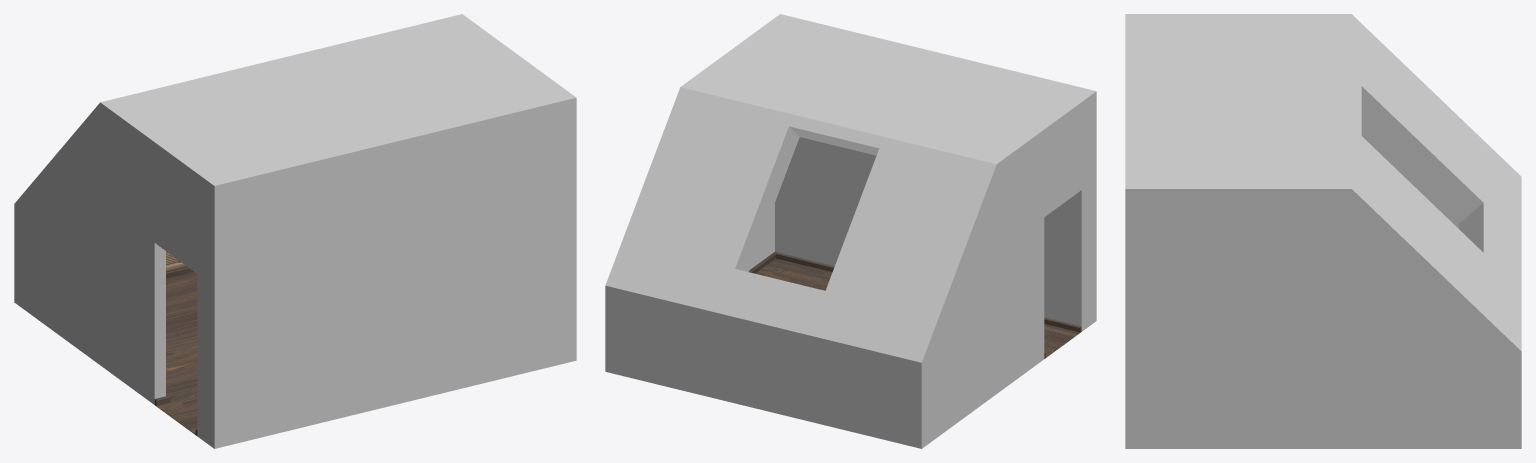
The picture shows the model from 3 angles, left to right: view 1: azimuth 30°, elevation 25°; view 2: azimuth 150°, elevation 25°; view 3: azimuth 270°, elevation 25°; orthographic projection. The views are drawn at different scales.
Visible parts, largest first — view 1: Arch_Walls, Arch_Floor; view 2: Arch_Walls, Arch_Floor; view 3: Arch_Walls.
Boxes of the visible parts, x1,y1,x2,y2 form: Arch_Walls: [14, 14, 576, 448]; Arch_Floor: [154, 267, 197, 435]; Arch_Walls: [605, 14, 1096, 448]; Arch_Floor: [749, 251, 1081, 358]; Arch_Walls: [1125, 14, 1521, 448].
Size of the model in its own units: 4.9 by 3.4 by 4.69.
Materials: 4 (3 with a texture image).
